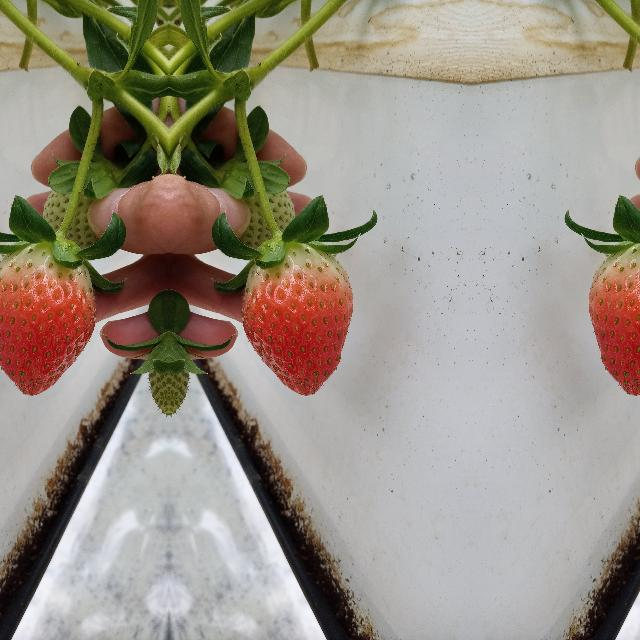Health_100: (240, 240, 354, 398), (0, 240, 96, 397), (587, 240, 640, 397)
